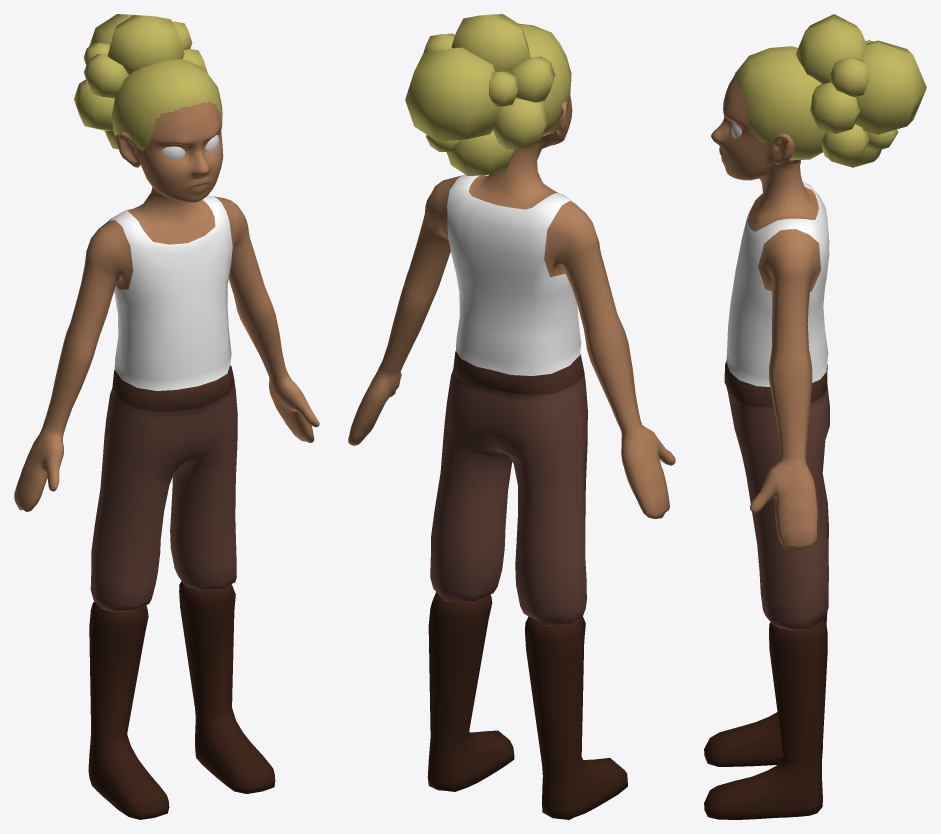
File: sam_retopologized.fbx
The picture shows the model from 3 angles, left to right: view 1: azimuth 30°, elevation 25°; view 2: azimuth 150°, elevation 25°; view 3: azimuth 270°, elevation 25°; orthographic projection. The views are drawn at different scales.
Visible parts, largest first — view 1: BSurfaceMesh.001, BSurfaceMesh.003, BSurfaceMesh.002, Cube.003, Cube.002; view 2: BSurfaceMesh.001, Cube.003, BSurfaceMesh.003, BSurfaceMesh.002, Cube.002; view 3: BSurfaceMesh.001, Cube.003, BSurfaceMesh.002, Cube.002, BSurfaceMesh.003.
Boxes of the visible parts, x1=… form: BSurfaceMesh.001: x1=14, y1=101, x2=319, y2=612; BSurfaceMesh.003: x1=88, y1=601, x2=169, y2=819; BSurfaceMesh.002: x1=179, y1=581, x2=275, y2=793; Cube.003: x1=74, y1=14, x2=207, y2=149; Cube.002: x1=111, y1=59, x2=222, y2=150; BSurfaceMesh.001: x1=348, y1=81, x2=675, y2=626; Cube.003: x1=405, y1=14, x2=554, y2=175; BSurfaceMesh.003: x1=525, y1=616, x2=627, y2=819; BSurfaceMesh.002: x1=427, y1=592, x2=514, y2=791; Cube.002: x1=519, y1=23, x2=571, y2=135; BSurfaceMesh.001: x1=711, y1=75, x2=829, y2=630; Cube.003: x1=796, y1=14, x2=926, y2=167; BSurfaceMesh.002: x1=704, y1=621, x2=827, y2=819; Cube.002: x1=735, y1=46, x2=825, y2=160; BSurfaceMesh.003: x1=704, y1=612, x2=827, y2=766.
Bounding box in the file's own units: 189 × 465 × 123.
